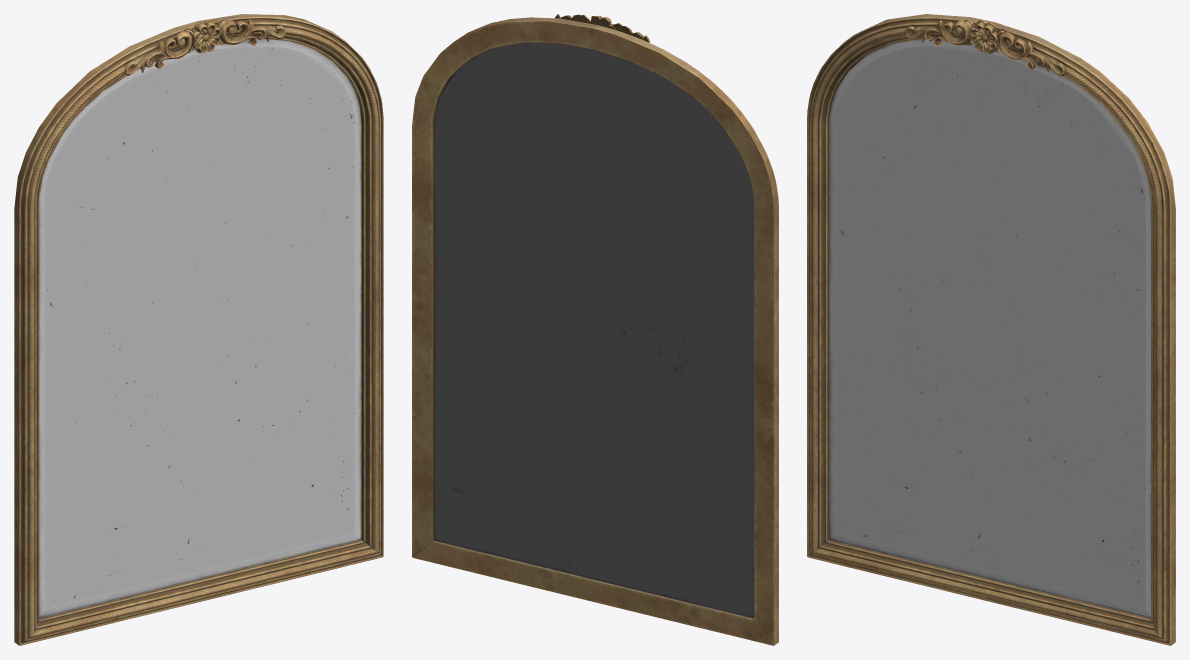
File: ornate_mirror_01_lod2.glb
The picture shows the model from 3 angles, left to right: view 1: azimuth 30°, elevation 25°; view 2: azimuth 150°, elevation 25°; view 3: azimuth 330°, elevation 25°; orthographic projection.
Visible parts, largest first — view 1: ornate_mirror_01; view 2: ornate_mirror_01; view 3: ornate_mirror_01.
Part boxes in pixels (x1=…): ornate_mirror_01: x1=14, y1=14, x2=383, y2=645; ornate_mirror_01: x1=412, y1=14, x2=778, y2=645; ornate_mirror_01: x1=807, y1=14, x2=1175, y2=645.
Bounding box in the file's own units: 0.4865 × 0.7442 × 0.026.
Materials: 1 (1 with a texture image).
